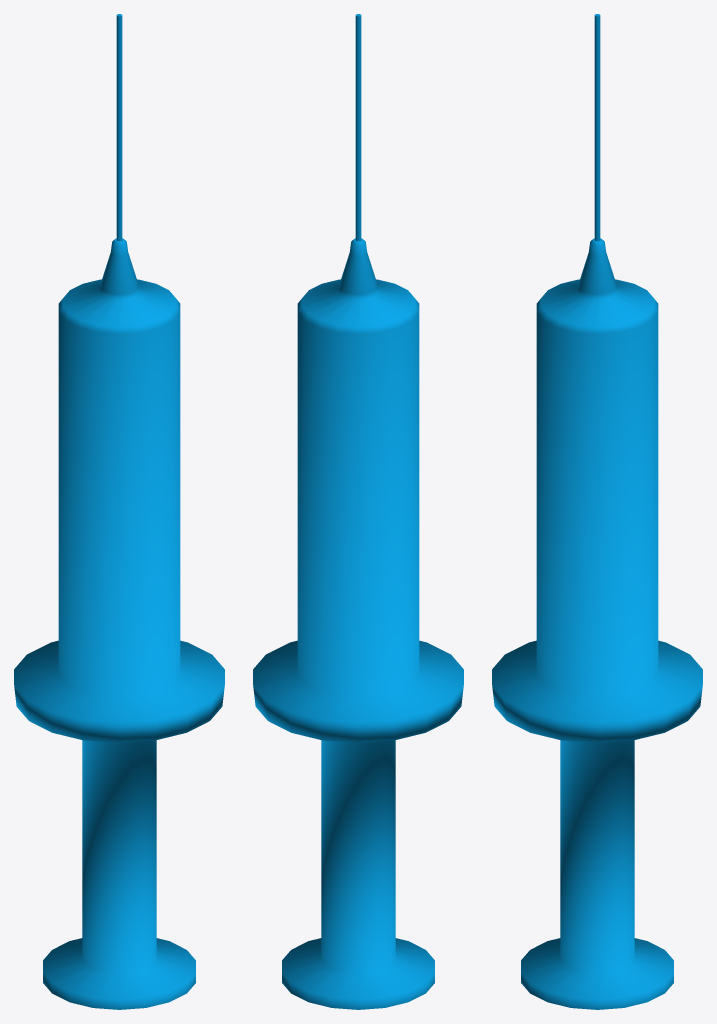
The model's file is shprizModelExport.fbx.
The picture shows the model from 3 angles, left to right: view 1: azimuth 30°, elevation 25°; view 2: azimuth 150°, elevation 25°; view 3: azimuth 270°, elevation 25°; orthographic projection.
Visible parts, largest first — view 1: Cylinder001; view 2: Cylinder001; view 3: Cylinder001.
Boxes of the visible parts, x1,y1,x2,y2 form: Cylinder001: (14,14,224,1009); Cylinder001: (253,14,463,1009); Cylinder001: (492,14,702,1009).
Bounding box in the file's own units: 0.4832 × 2.4 × 0.4759.
Materials: 1 (1 with a texture image).
